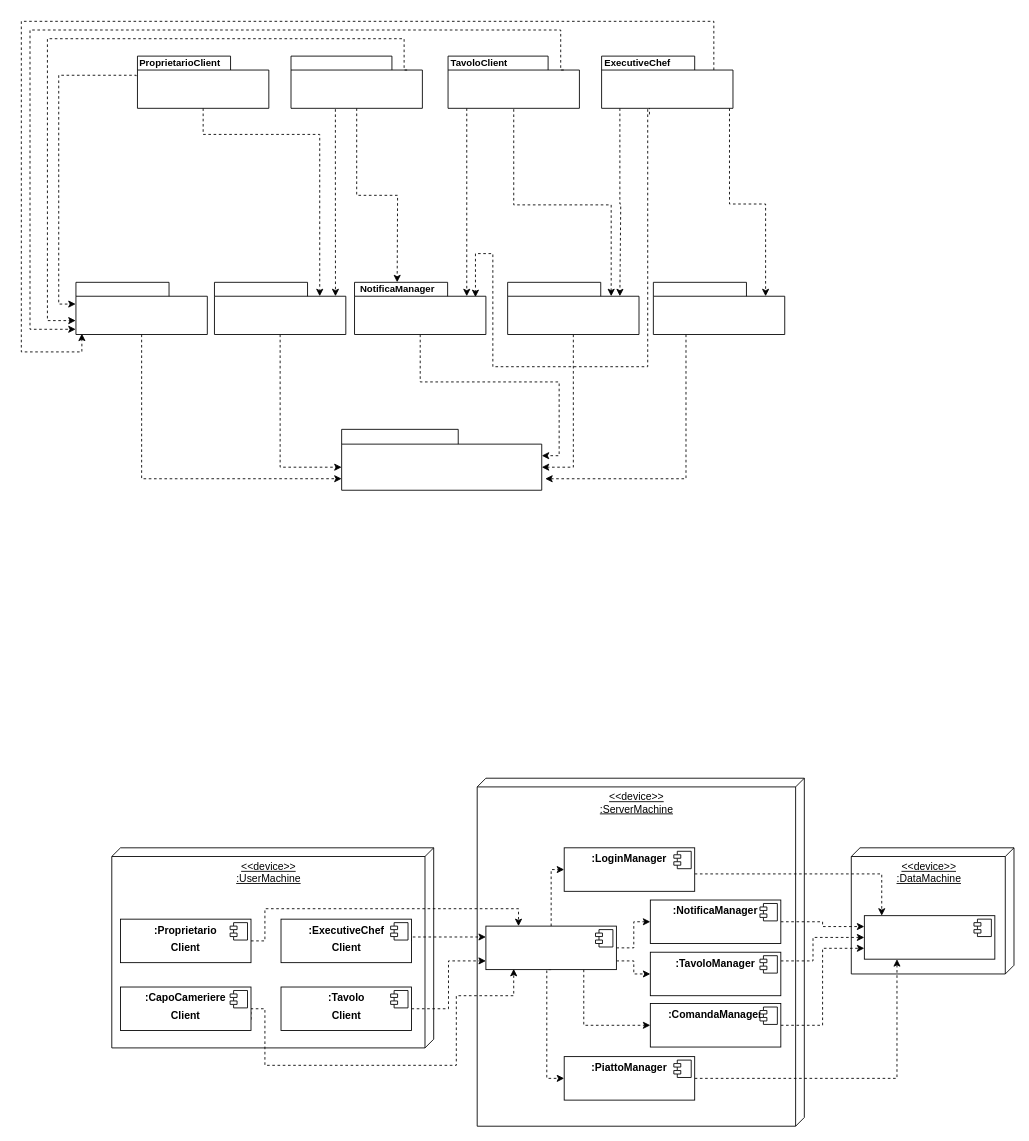
The diagram is 1029 pixels wide and 1141 high, and some of its shapes have lost their labels. The centre of each missing label's shape, as x and y in pixels:
":SmartRestaurant Server" goes at (550,947).
":SmartRestaurant Storage" goes at (929,937).
"CapoCameriereClient" goes at (356,81).
"ComandaManager" goes at (718,308).
"LoginManager" goes at (141,308).
"PiattoManager" goes at (573,308).
"SmartRestaurantStorage" goes at (441,459).
"TavoloManager" goes at (280,308).
